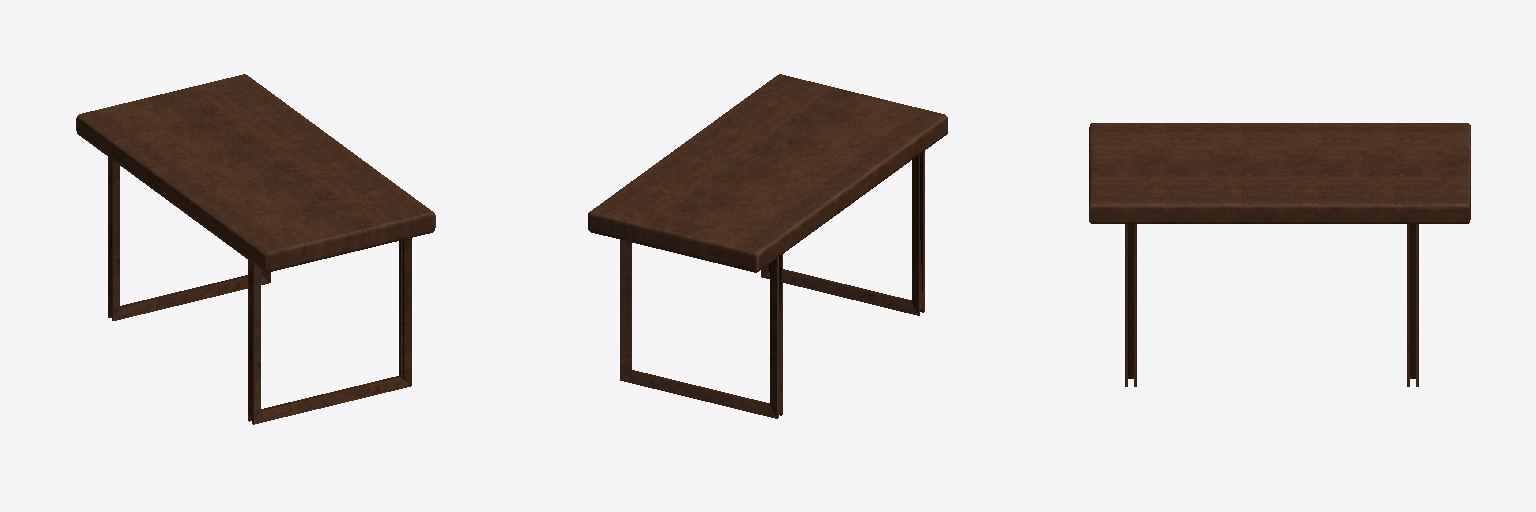
The picture shows the model from 3 angles: view 1: azimuth 30°, elevation 25°; view 2: azimuth 150°, elevation 25°; view 3: azimuth 270°, elevation 25°; orthographic projection.
Visible parts, largest first — view 1: solid_001_wire; view 2: solid_001_wire; view 3: solid_001_wire.
Part boxes in pixels (left/top/right/bottom): solid_001_wire: left=76, top=74, right=435, bottom=424; solid_001_wire: left=588, top=74, right=947, bottom=418; solid_001_wire: left=1089, top=123, right=1470, bottom=386.
Bounding box in the file's own units: 0.6991 × 0.7218 × 1.34.
1 materials, 1 textured.